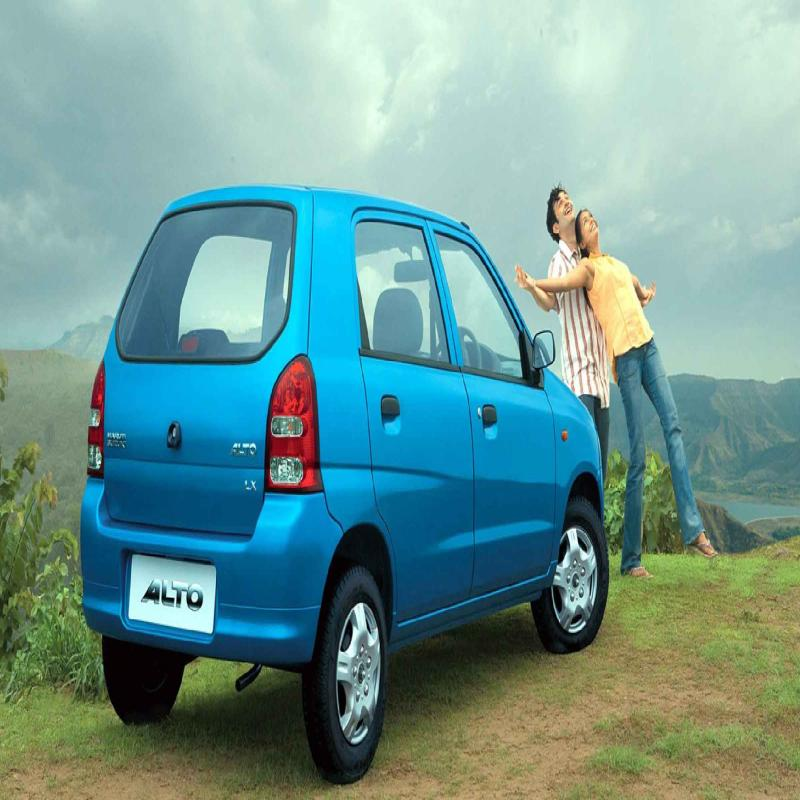car: (75, 194, 608, 747)
